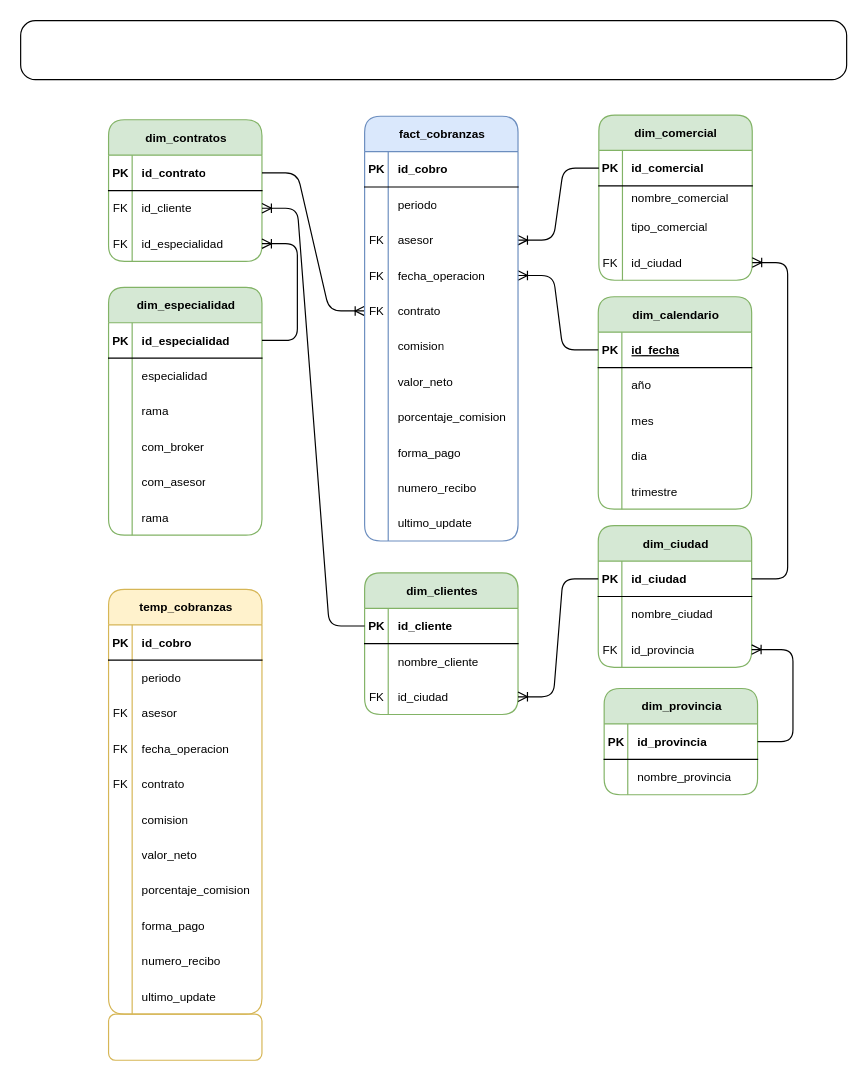
Some shapes in this 867 by 1081 pixel diagram are drawn without their labels. Each missing label, with the centre of its shape:
"BD: cobranzas_capa_uno Diagrama Entidad-Relación" goes at point 433,49.
"Tabla para estacionar y validar datos previo a ingesta en 'fact_cobranzas'" goes at point 184,1036.
